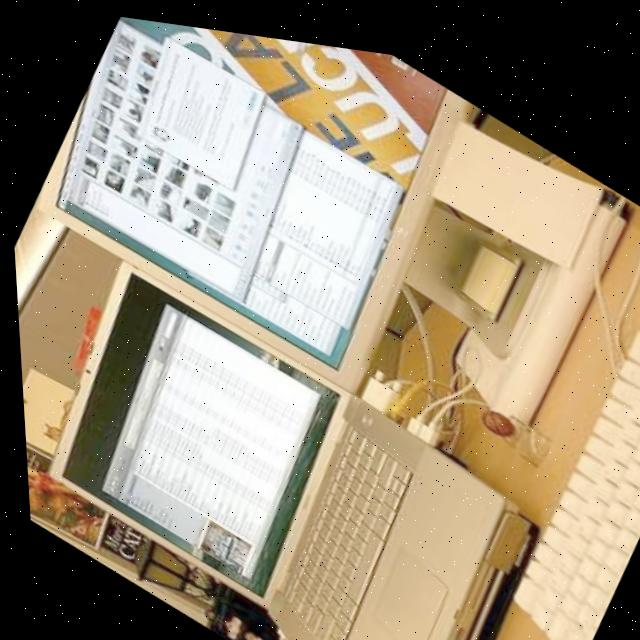laptop: (11, 240, 541, 640)
